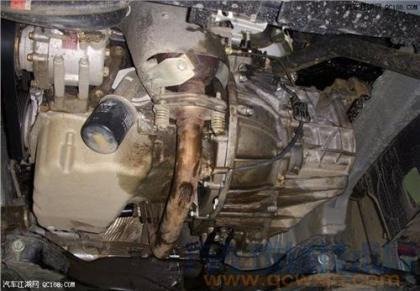oil: (115, 127, 209, 202)
